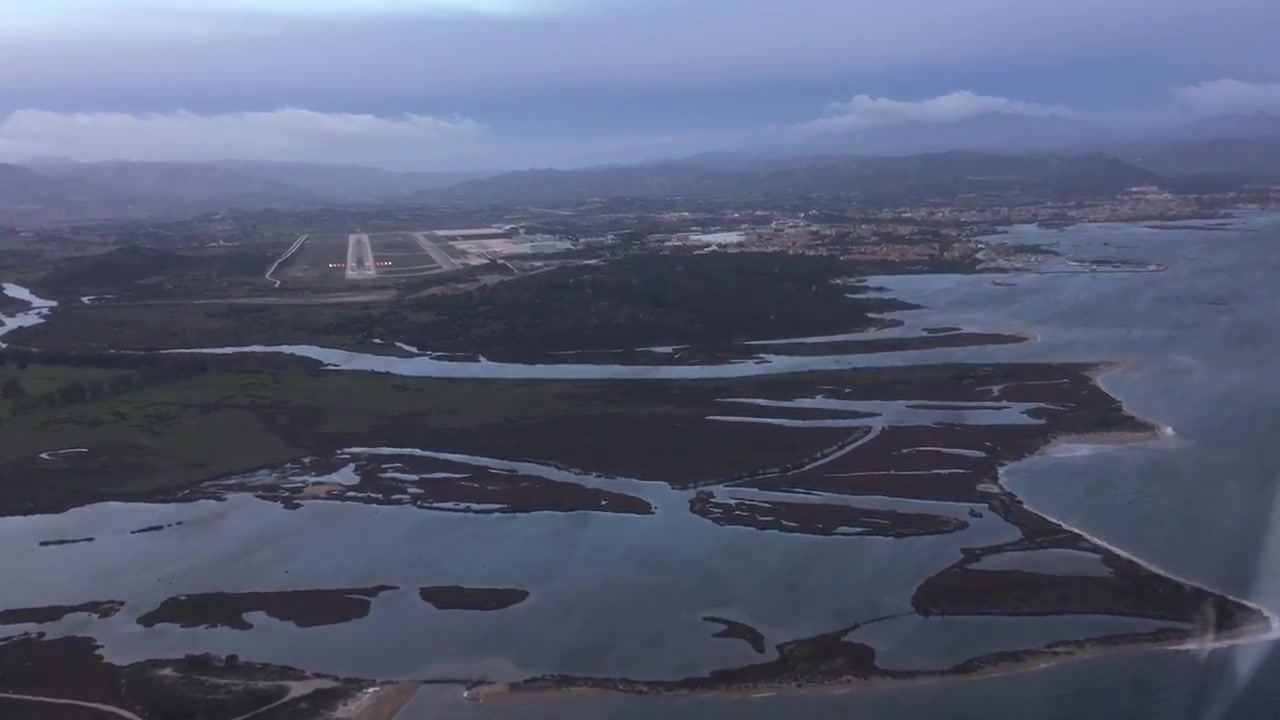runway: (345, 236, 376, 277)
